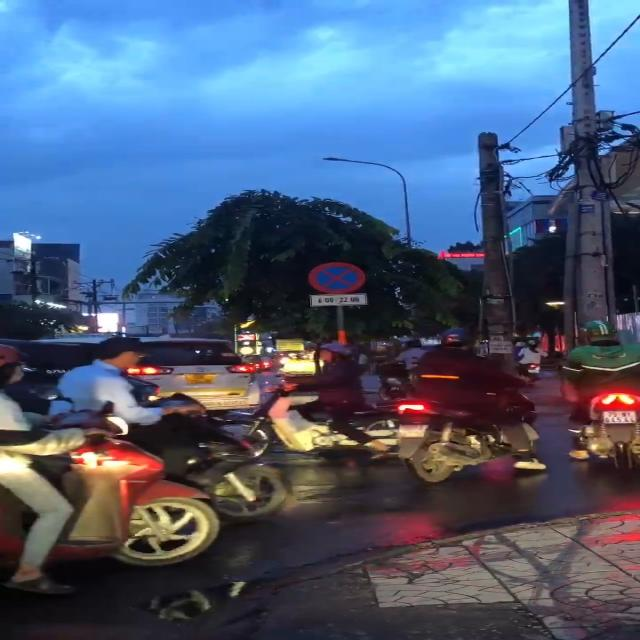Bien bao cam dung xe va do xe: (304, 260, 370, 295)
